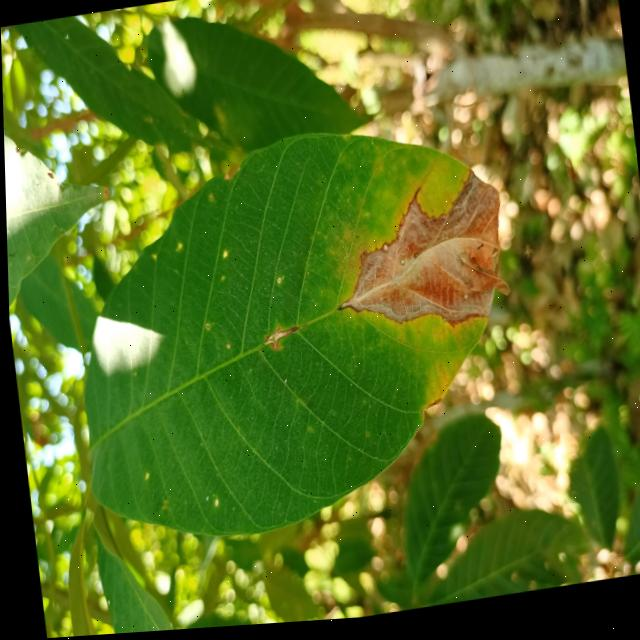Colletotrichum: (201, 325, 207, 333), (273, 281, 279, 288), (209, 502, 215, 508), (222, 346, 227, 352), (218, 279, 220, 282)
Leaf-Blight: (325, 173, 511, 350)
